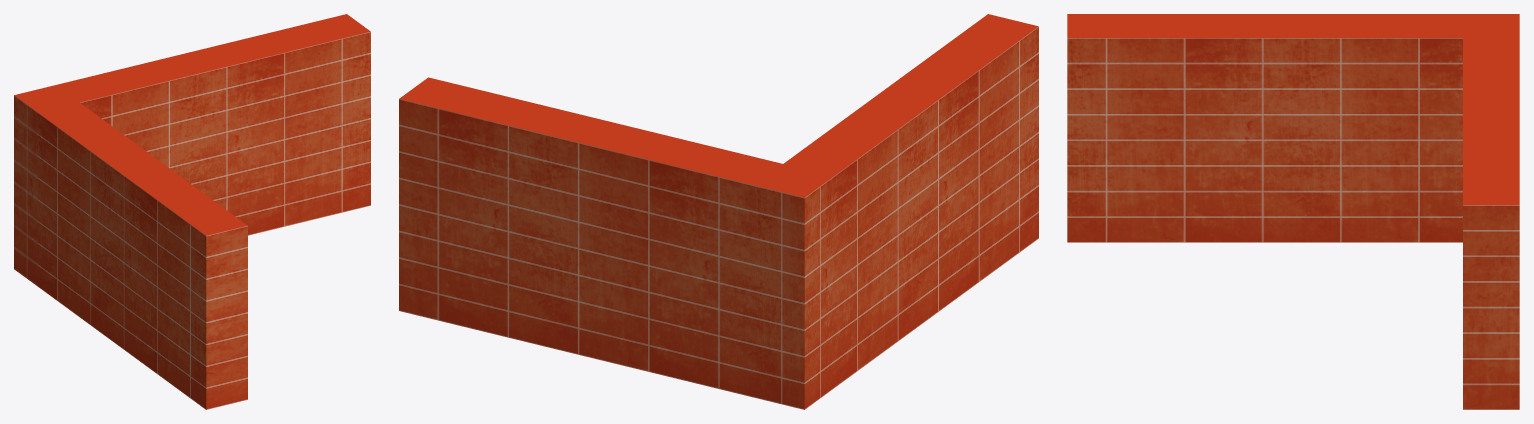
The model's file is Wall_Corner_01.fbx.
The picture shows the model from 3 angles, left to right: view 1: azimuth 30°, elevation 25°; view 2: azimuth 150°, elevation 25°; view 3: azimuth 270°, elevation 25°; orthographic projection. The views are drawn at different scales.
Visible parts, largest first — view 1: Wall_Corner_01; view 2: Wall_Corner_01; view 3: Wall_Corner_01.
Part boxes in pixels (bbox=[...]): Wall_Corner_01: bbox=[14, 14, 370, 409]; Wall_Corner_01: bbox=[399, 14, 1038, 409]; Wall_Corner_01: bbox=[1067, 14, 1519, 409].
Size of the model in its own units: 400 by 200 by 400.
